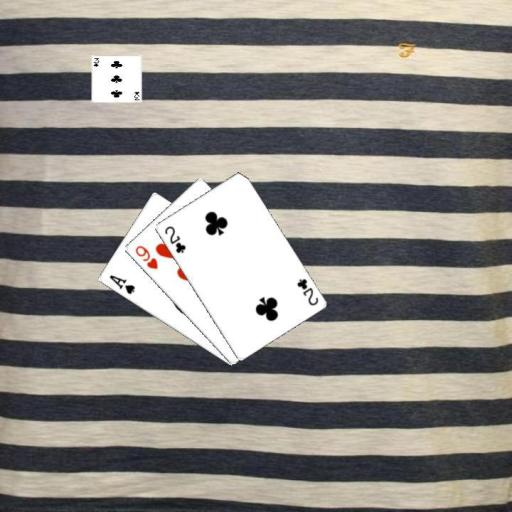2C: (161, 223, 187, 255), (293, 275, 319, 307)
9H: (132, 242, 159, 271)
AS: (106, 272, 136, 296)
